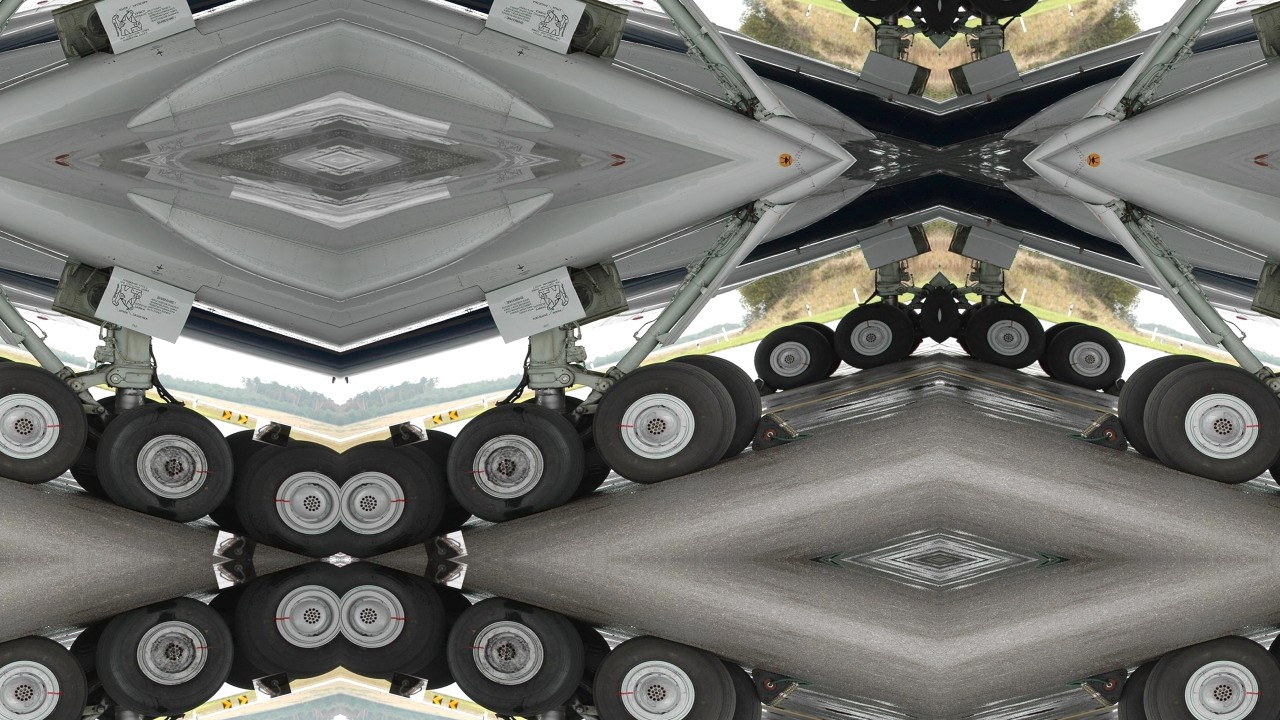chock: (741, 404, 806, 456), (1074, 404, 1139, 456), (741, 664, 806, 716), (1074, 664, 1139, 716), (212, 530, 257, 560), (423, 530, 468, 560), (212, 560, 257, 590), (423, 560, 468, 590), (252, 418, 291, 448), (389, 418, 428, 448), (252, 672, 291, 702), (389, 672, 428, 702), (750, 373, 778, 400), (1102, 373, 1130, 400)
wheel: (578, 345, 752, 497), (82, 388, 248, 536), (432, 388, 598, 536), (1128, 345, 1280, 497), (82, 584, 248, 720), (432, 584, 598, 720), (578, 623, 752, 720), (0, 345, 102, 497), (228, 427, 340, 560), (340, 427, 452, 560), (228, 560, 340, 693), (340, 560, 452, 693), (1128, 623, 1280, 720), (0, 623, 102, 720), (829, 296, 923, 378), (957, 296, 1051, 378), (747, 314, 839, 397), (1041, 314, 1133, 397), (829, 0, 923, 24), (957, 0, 1051, 24)
